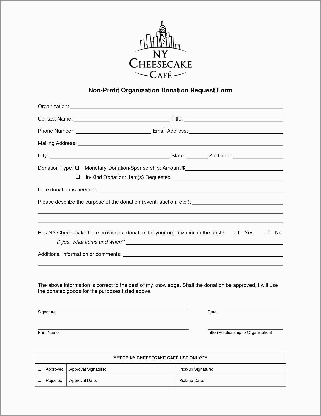checkbox: (233, 229, 241, 235), (75, 164, 81, 171), (75, 174, 81, 181), (36, 365, 42, 372), (36, 377, 42, 383), (264, 230, 271, 235)
textbox: (175, 374, 288, 390), (65, 362, 179, 377), (174, 362, 288, 377), (65, 374, 178, 388)
textline: (69, 100, 286, 112), (77, 136, 286, 148), (36, 207, 286, 217), (37, 216, 287, 225), (36, 260, 288, 268), (35, 299, 192, 311), (36, 319, 193, 331), (96, 185, 286, 194), (122, 249, 288, 258), (125, 237, 287, 246), (49, 150, 171, 160), (206, 317, 286, 332), (188, 125, 286, 136), (171, 173, 286, 182), (206, 298, 284, 311), (186, 163, 286, 173), (191, 196, 285, 206), (183, 114, 286, 123), (74, 114, 171, 123), (75, 125, 153, 135), (231, 149, 286, 160), (186, 149, 211, 160)
